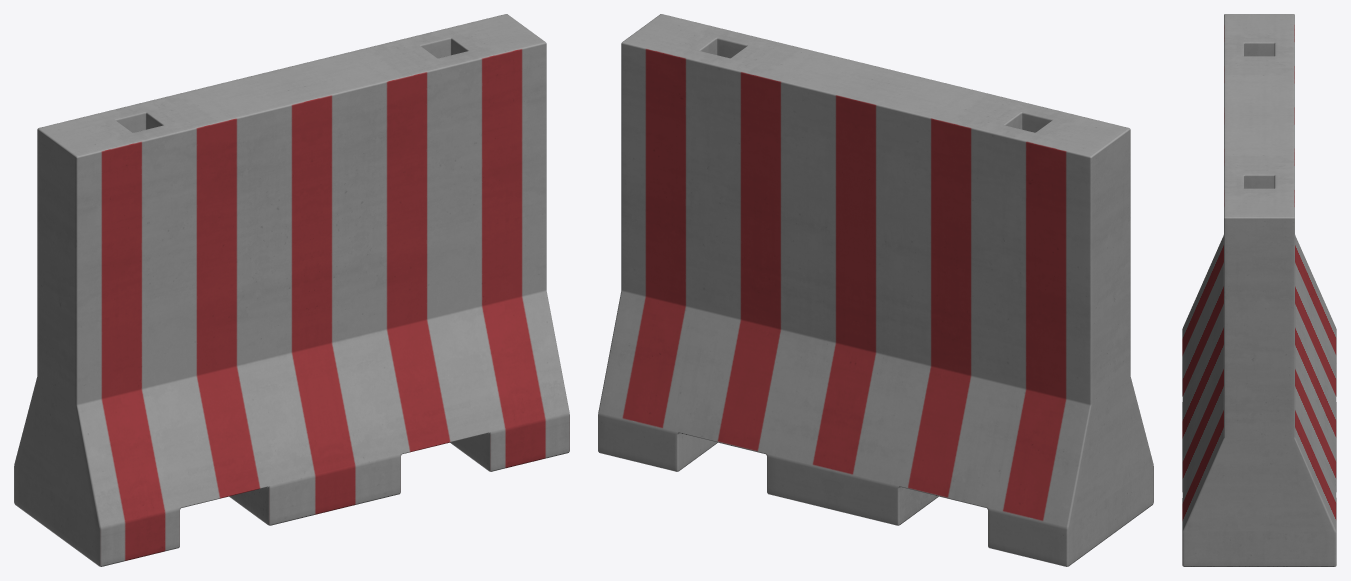
The model's file is concrete.glb.
3 renders of one model, left to right at view 1: azimuth 30°, elevation 25°; view 2: azimuth 150°, elevation 25°; view 3: azimuth 270°, elevation 25°, orthographic. The views are drawn at different scales.
Parts seen in each view (by area): view 1: extracted_03; view 2: extracted_03; view 3: extracted_03.
Part boxes in pixels (x1=…): extracted_03: x1=14, y1=14, x2=569, y2=566; extracted_03: x1=598, y1=14, x2=1153, y2=566; extracted_03: x1=1182, y1=14, x2=1336, y2=566.
Size of the model in its own units: 1.24 by 0.995 by 0.398.
Materials: 1 (1 with a texture image).
